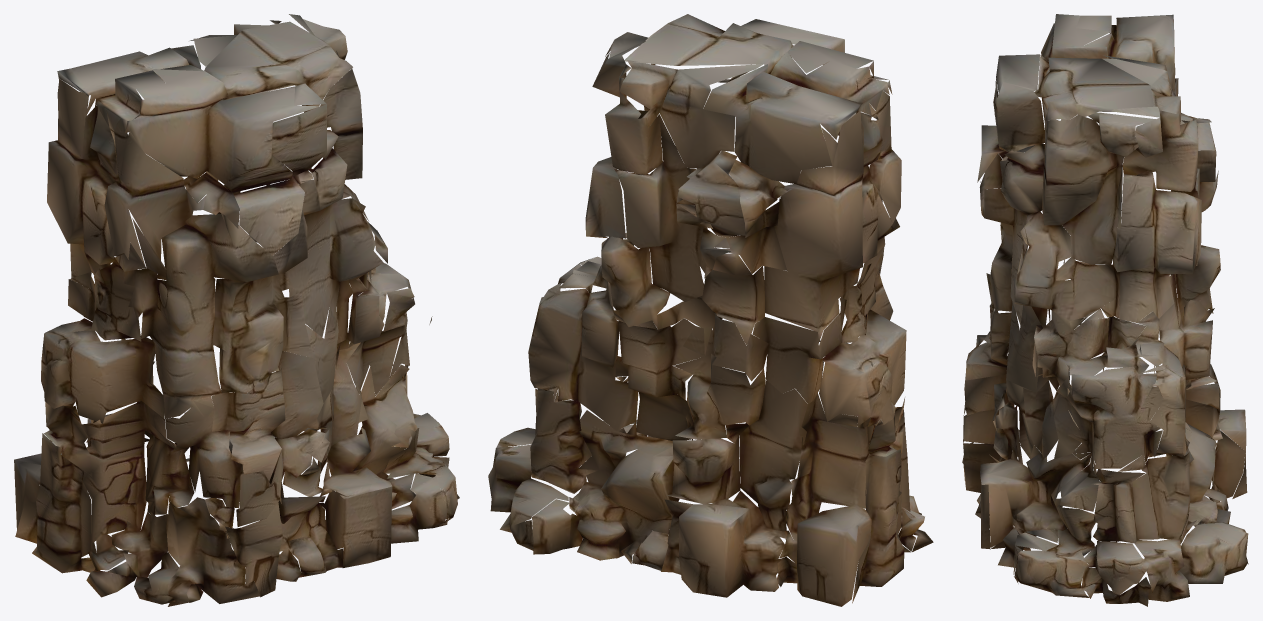
Rendered from cav_limestone_cliff_a_LOD2.glb.
The picture shows the model from 3 angles, left to right: view 1: azimuth 30°, elevation 25°; view 2: azimuth 150°, elevation 25°; view 3: azimuth 270°, elevation 25°; orthographic projection. The views are drawn at different scales.
Parts seen in each view (by area): view 1: tripo_node_3ef656aa-2fe7-4dd1-87fa-00c7bbc1e1c7; view 2: tripo_node_3ef656aa-2fe7-4dd1-87fa-00c7bbc1e1c7; view 3: tripo_node_3ef656aa-2fe7-4dd1-87fa-00c7bbc1e1c7.
Boxes of the visible parts, x1=… form: tripo_node_3ef656aa-2fe7-4dd1-87fa-00c7bbc1e1c7: x1=14, y1=14, x2=459, y2=606; tripo_node_3ef656aa-2fe7-4dd1-87fa-00c7bbc1e1c7: x1=488, y1=14, x2=933, y2=606; tripo_node_3ef656aa-2fe7-4dd1-87fa-00c7bbc1e1c7: x1=962, y1=14, x2=1248, y2=606.
Size of the model in its own units: 0.8657 by 1.01 by 0.5841.
1 material, 1 textured.
